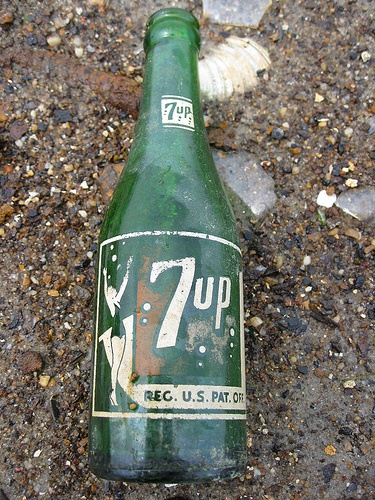emptybottle: (92, 9, 248, 485)
